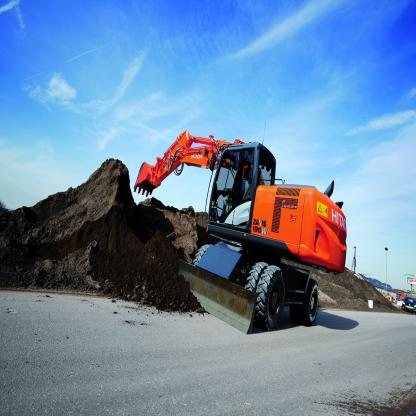excavator: (132, 110, 352, 335)
